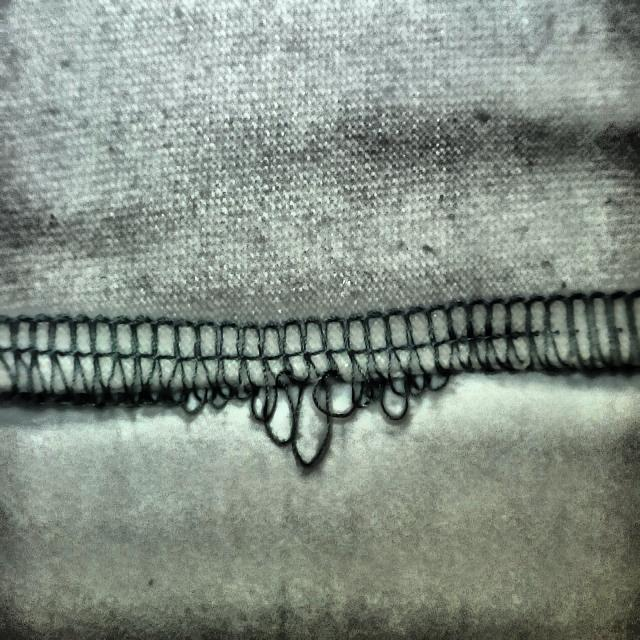gray stitch: (182, 305, 450, 469)
